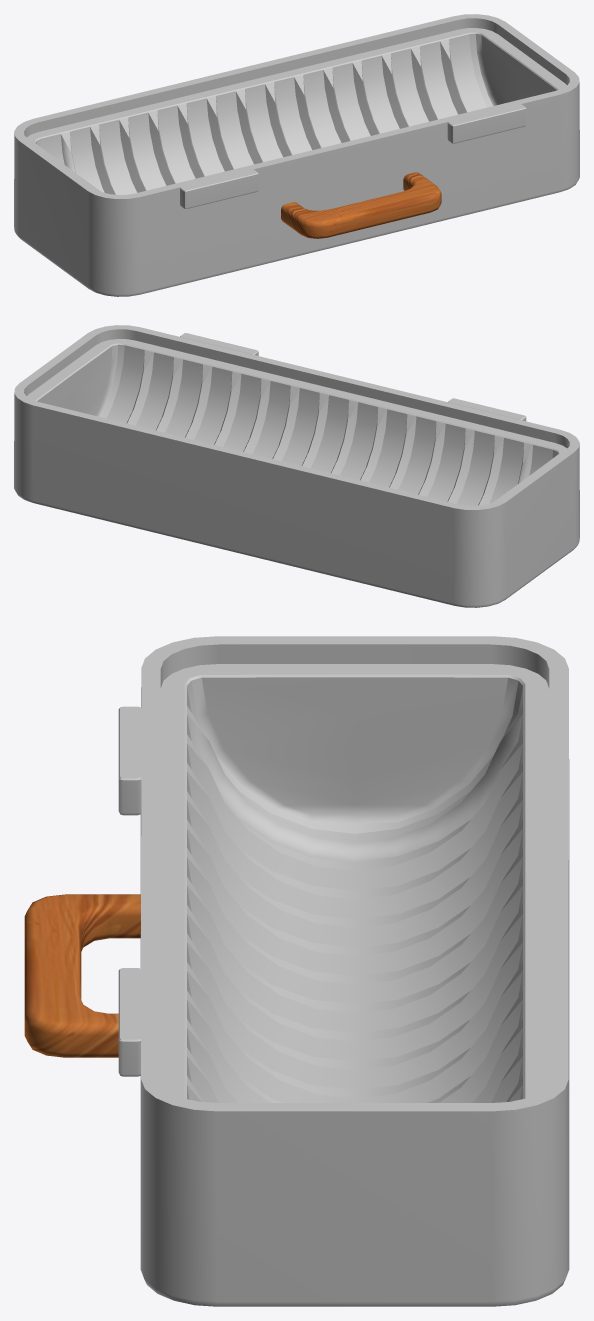
The picture shows the model from 3 angles, top to bottom: view 1: azimuth 30°, elevation 25°; view 2: azimuth 150°, elevation 25°; view 3: azimuth 270°, elevation 25°; orthographic projection. The views are drawn at different scales.
Parts seen in each view (by area): view 1: Box_Out, Box_Viencoin, Box_Wood, Box_In, Box_Lock; view 2: Box_Out, Box_Viencoin, Box_In, Box_Lock; view 3: Box_Out, Box_In, Box_Viencoin, Box_Wood, Box_Lock.
Part boxes in pixels (x1,y1,x2,y2): Box_Out: (14,14,579,296); Box_Viencoin: (41,34,487,194); Box_Wood: (281,172,441,238); Box_In: (27,28,566,190); Box_Lock: (180,104,526,208); Box_Out: (14,325,579,607); Box_Viencoin: (106,345,552,505); Box_In: (27,339,566,501); Box_Lock: (180,333,526,421); Box_Out: (140,636,569,1306); Box_In: (160,664,549,1098); Box_Viencoin: (187,687,522,1102); Box_Wood: (24,894,140,1057); Box_Lock: (118,706,141,1076).
Bounding box in the file's own units: 3.34 × 0.654 × 1.62.
